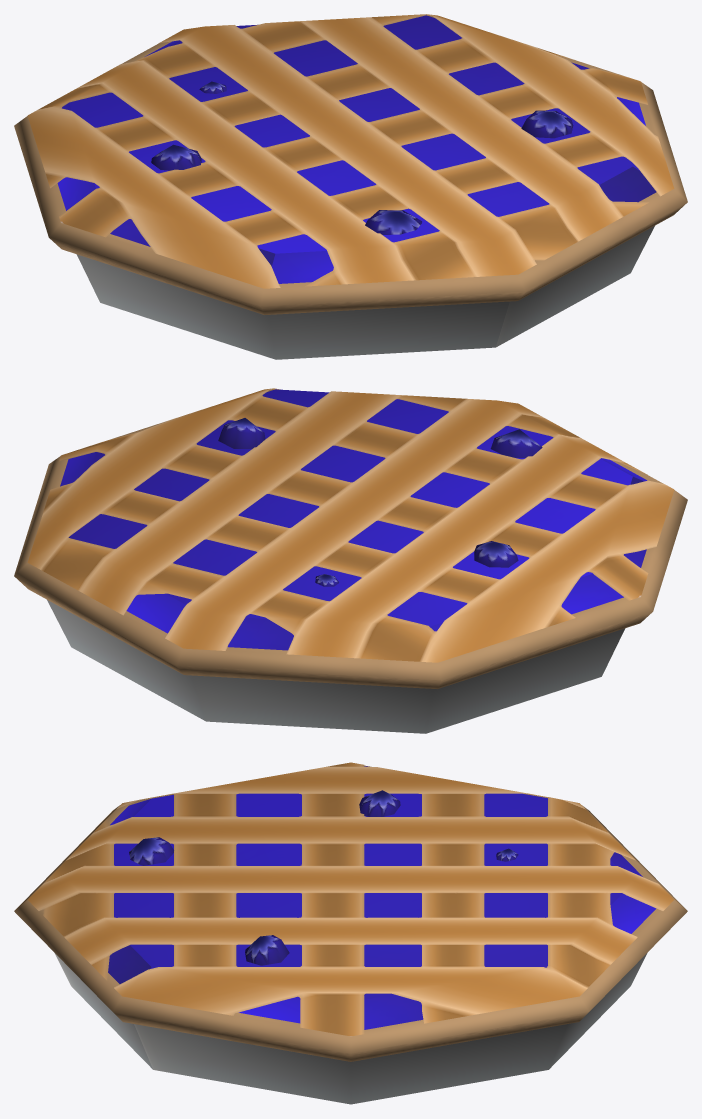
Rendered from Pie_B_03.FBX.
3 renders of one model, top to bottom at view 1: azimuth 30°, elevation 25°; view 2: azimuth 150°, elevation 25°; view 3: azimuth 270°, elevation 25°, orthographic. The views are drawn at different scales.
Parts seen in each view (by area): view 1: Pie_B; view 2: Pie_B; view 3: Pie_B.
Part boxes in pixels (bbox=[...]): Pie_B: bbox=[14, 14, 687, 359]; Pie_B: bbox=[14, 388, 687, 733]; Pie_B: bbox=[14, 762, 687, 1104].
Bounding box in the file's own units: 116 × 23.2 × 116.
